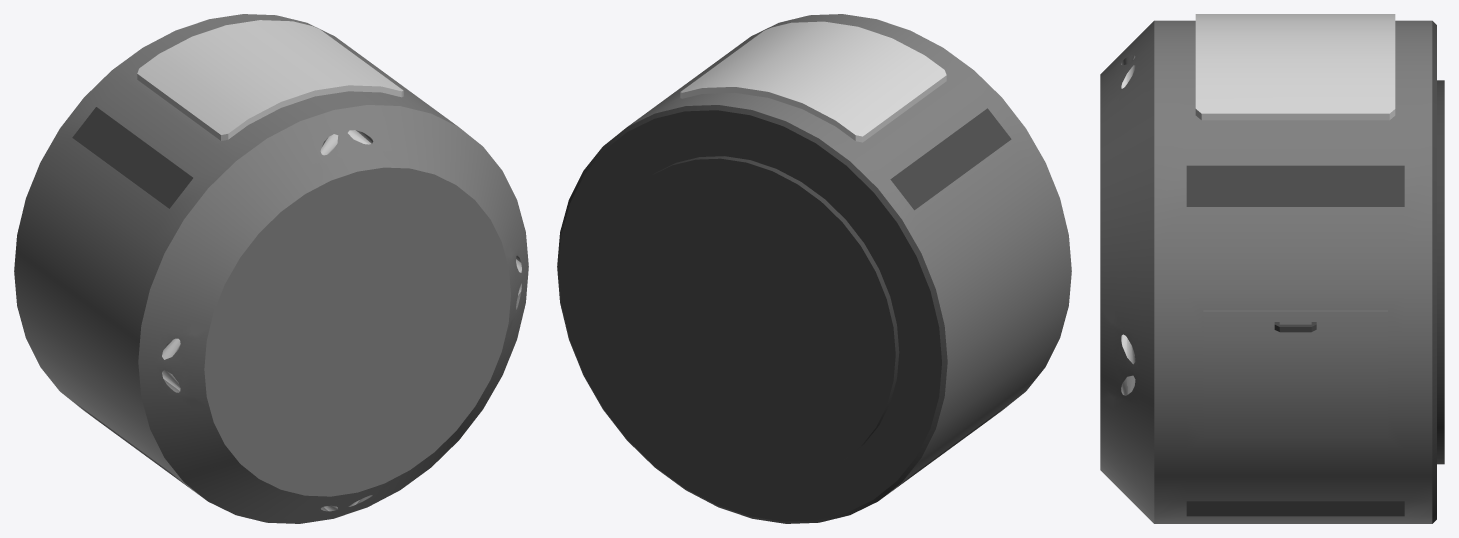
Rendered from ph_lander_capsule.sturdy.gltf.
3 views of the same model, side by side, from view 1: azimuth 30°, elevation 25°; view 2: azimuth 150°, elevation 25°; view 3: azimuth 270°, elevation 25° (orthographic). The views are drawn at different scales.
Parts seen in each view (by area): view 1: landerCapsuleRcs; view 2: landerCapsuleRcs; view 3: landerCapsuleRcs.
Boxes of the visible parts, left/top/right/bottom form: landerCapsuleRcs: left=14, top=14, right=528, bottom=523; landerCapsuleRcs: left=557, top=14, right=1071, bottom=523; landerCapsuleRcs: left=1100, top=14, right=1444, bottom=523.
Size of the model in its own units: 3.03 by 3.04 by 2.05.
Materials: 1 (1 with a texture image).
